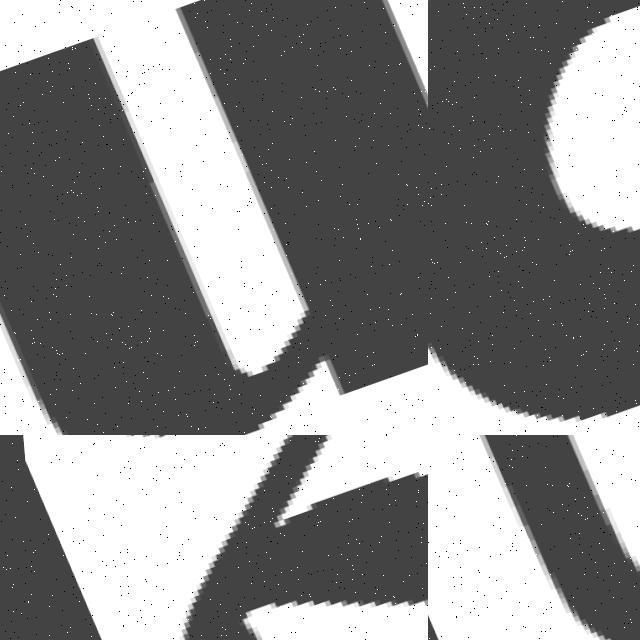C: (428, 0, 640, 435)
U: (0, 0, 428, 435), (428, 435, 640, 640)
Z: (0, 435, 428, 640)
